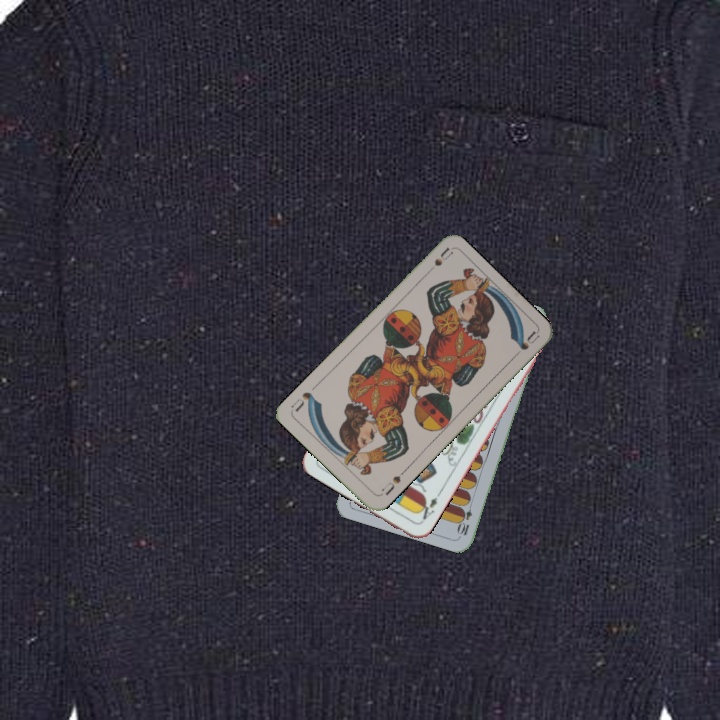E10: (455, 498, 475, 538)
EA: (414, 493, 440, 526)
SU: (421, 244, 455, 279), (377, 466, 408, 497)
